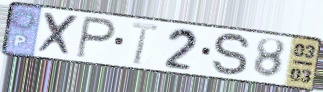2: (159, 26, 202, 75)
8: (251, 37, 287, 81)
P: (74, 14, 118, 61)
S: (211, 32, 253, 78)
T: (130, 20, 160, 67)
X: (36, 10, 82, 59)
